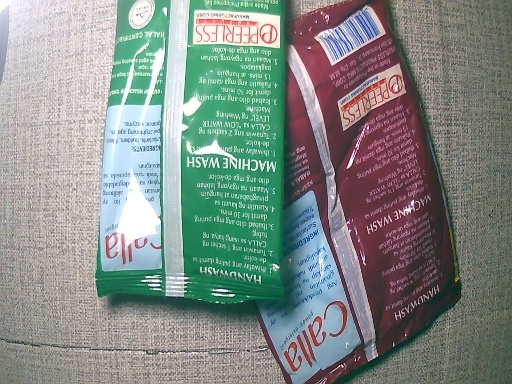plastic: (251, 1, 448, 384), (94, 1, 287, 308)
